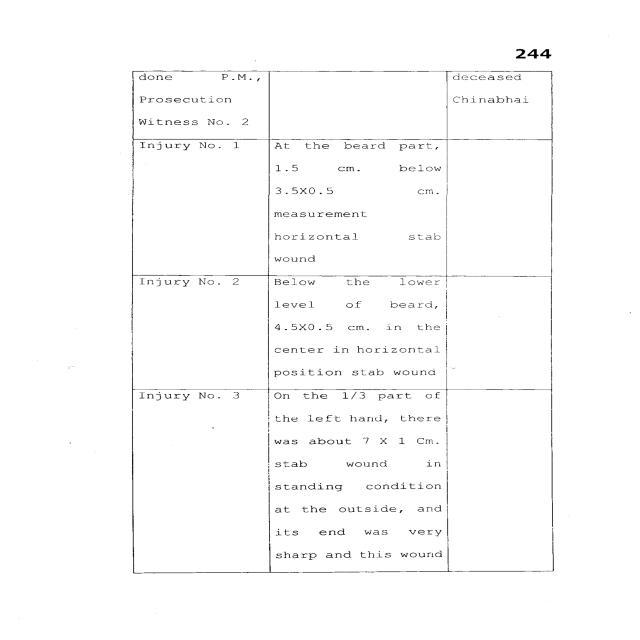page-number: (428, 1, 634, 64)
